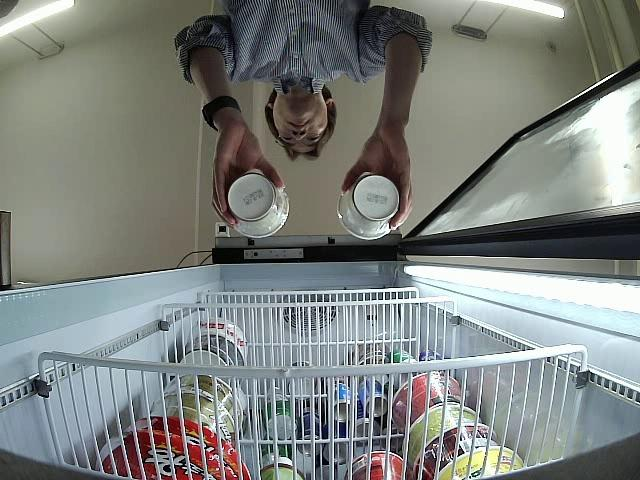00_hand: (341, 126, 415, 234), (210, 132, 284, 229)
04_chapagetti_S: (228, 174, 289, 239), (338, 176, 399, 240)
